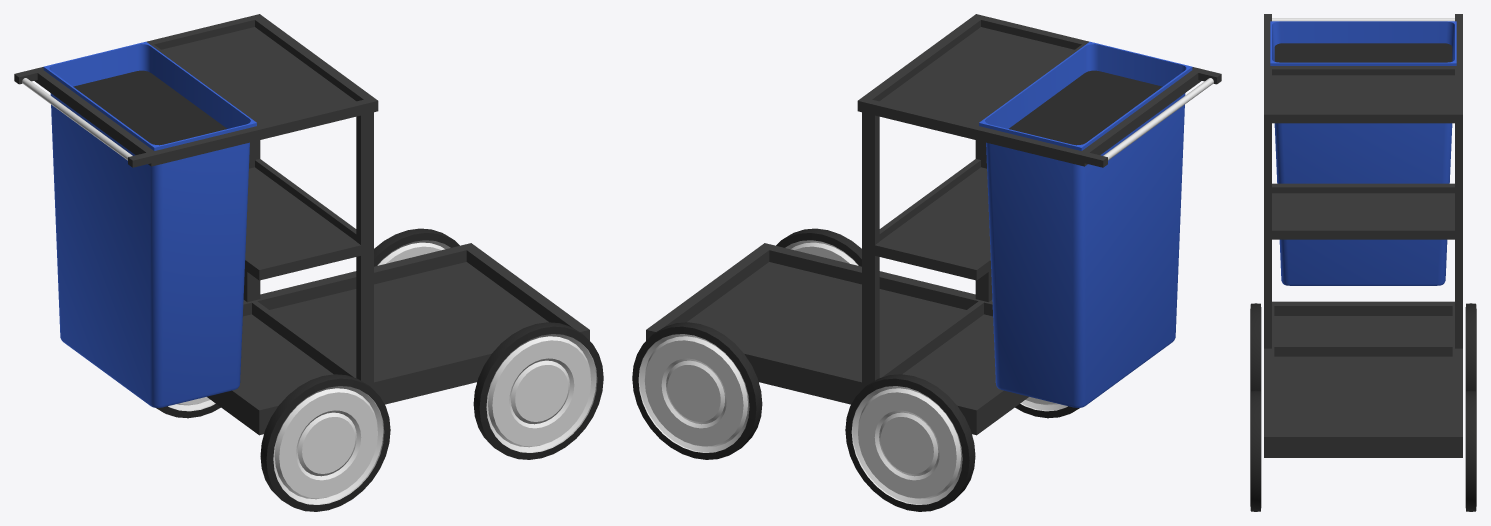
Rendered from cart.fbx.
3 views of the same model, side by side, from view 1: azimuth 30°, elevation 25°; view 2: azimuth 150°, elevation 25°; view 3: azimuth 270°, elevation 25° (orthographic). The views are drawn at different scales.
Parts seen in each view (by area): view 1: cart, trash, wheels; view 2: cart, trash, wheels; view 3: cart, trash, wheels.
Part boxes in pixels (box(x1,y1,x2,y2)): cart: box(14, 14, 589, 435); trash: box(43, 41, 256, 407); wheels: box(156, 228, 603, 511); cart: box(646, 14, 1221, 435); trash: box(979, 41, 1192, 407); wheels: box(632, 228, 1079, 511); cart: box(1264, 14, 1462, 457); trash: box(1270, 21, 1456, 285); wheels: box(1250, 303, 1476, 511).
Bounding box in the file's own units: 1.5 × 1.22 × 0.7535.
